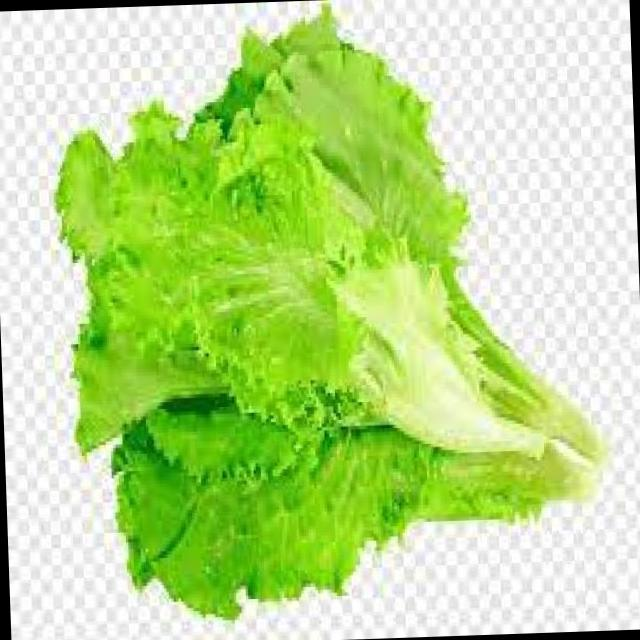Lettuce-Ready-to-Harvest: (55, 10, 605, 616)
